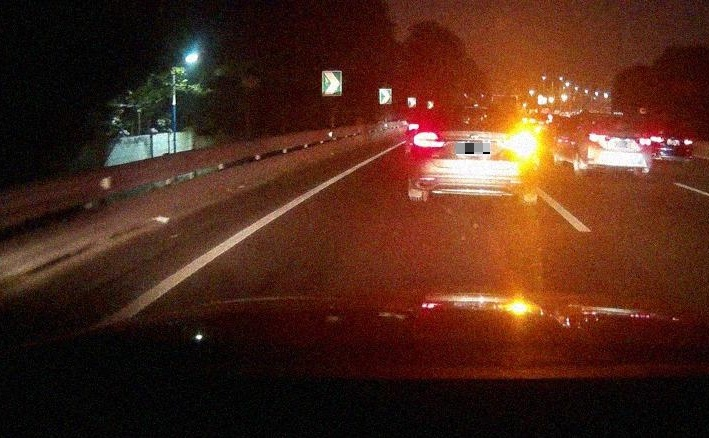L_light: (411, 131, 445, 148), (587, 133, 608, 144)
R_light: (504, 133, 537, 151), (635, 135, 652, 146)
T_light: (465, 107, 488, 115), (608, 116, 627, 123)
night-no: (582, 115, 653, 176)
night-right: (407, 103, 540, 206)
plate_1: (456, 143, 490, 154)
